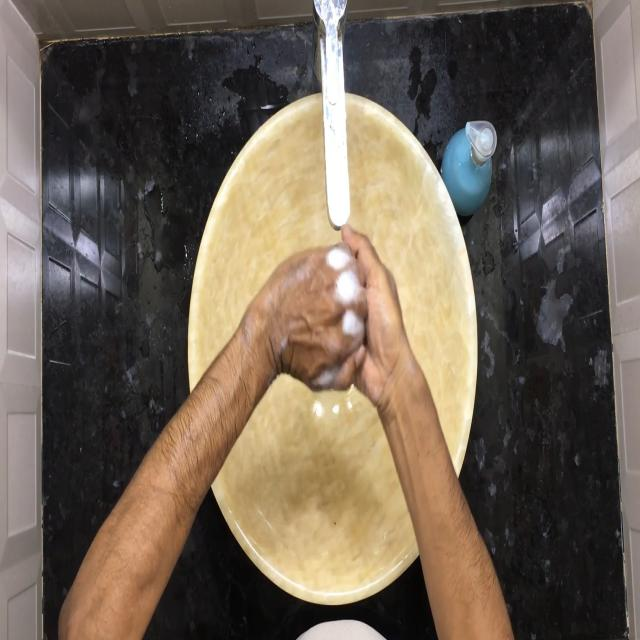step_4: (278, 215, 401, 409)
